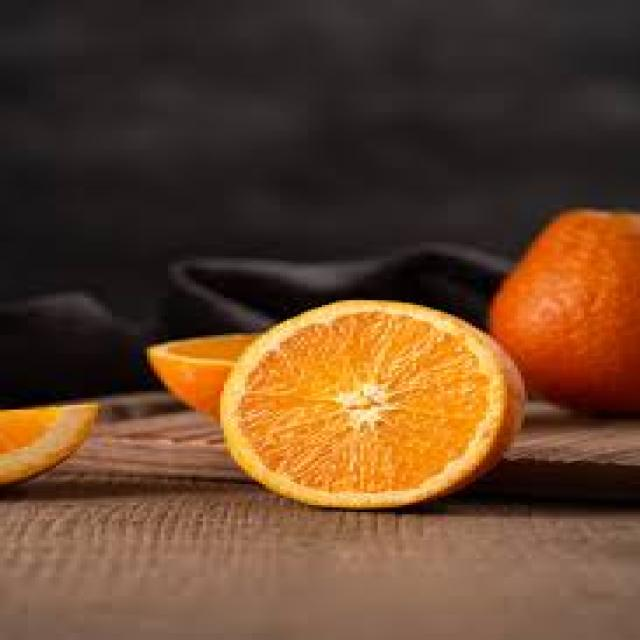orange: (216, 271, 530, 511)
